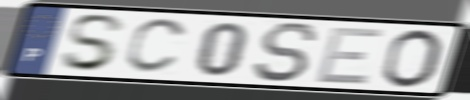0: (193, 21, 252, 79)
C: (122, 17, 192, 76)
E: (312, 25, 387, 87)
O: (378, 27, 445, 90)
S: (251, 21, 321, 85), (58, 13, 128, 74)
